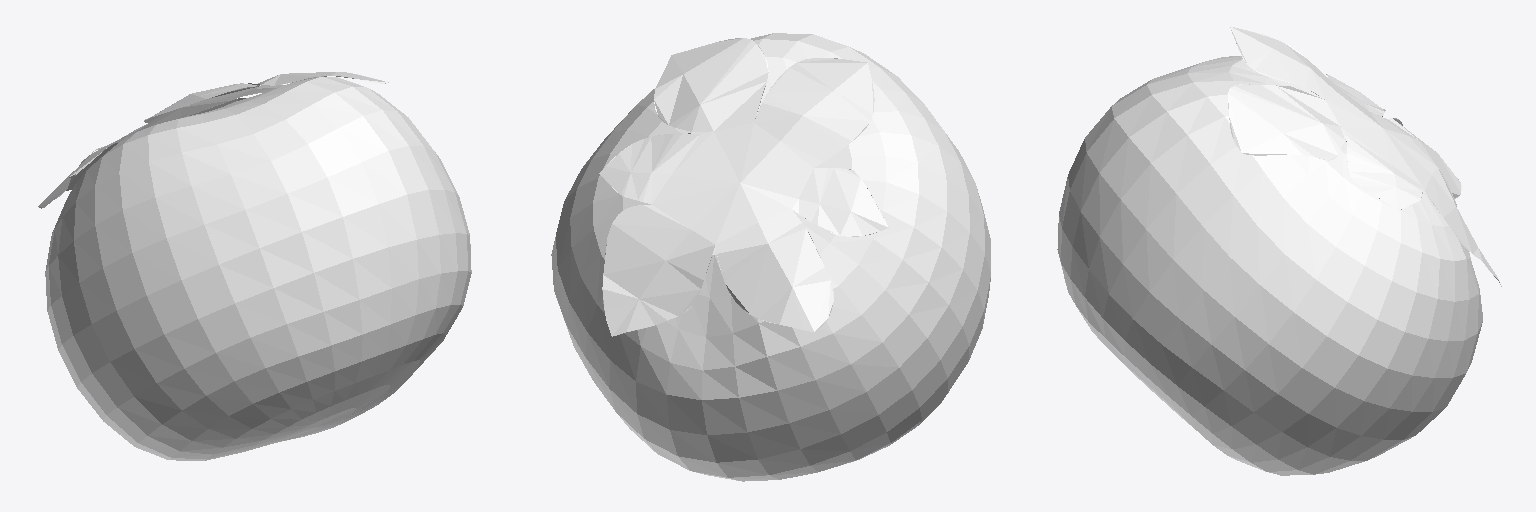
The model's file is Tomato.obj.
3 views of the same model, side by side, from view 1: azimuth 30°, elevation 25°; view 2: azimuth 150°, elevation 25°; view 3: azimuth 270°, elevation 25° (orthographic).
Visible parts, largest first — view 1: VisualBall; view 2: VisualBall; view 3: VisualBall.
Part boxes in pixels (x1,y1,x2,y2): VisualBall: (38,72,471,460); VisualBall: (551,33,990,481); VisualBall: (1057,26,1501,475).
Bounding box in the file's own units: 0.0167 × 0.0164 × 0.0171.